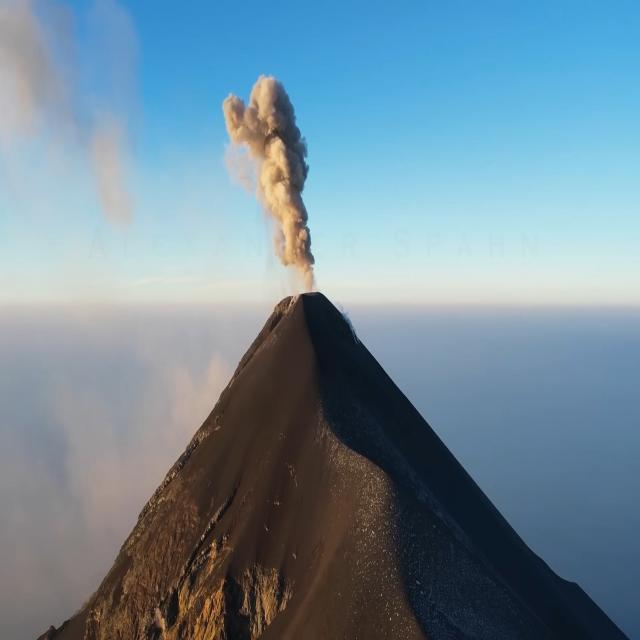Plume: (214, 65, 346, 291)
Summit: (34, 288, 640, 640)
